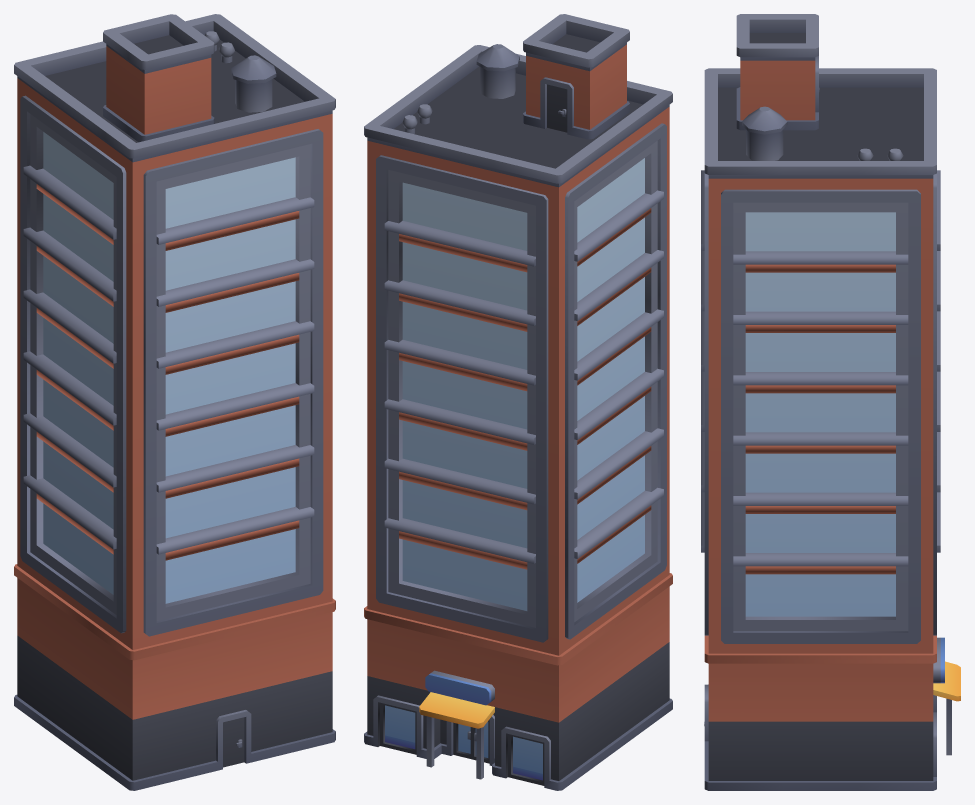
File: building-skyscraper-c-b.glb
The picture shows the model from 3 angles, left to right: view 1: azimuth 30°, elevation 25°; view 2: azimuth 150°, elevation 25°; view 3: azimuth 270°, elevation 25°; orthographic projection. The views are drawn at different scales.
Parts seen in each view (by area): view 1: building-skyscraper-c; view 2: building-skyscraper-c; view 3: building-skyscraper-c.
Boxes of the visible parts, box(x1,y1,x2,y2) form: building-skyscraper-c: box(14, 14, 335, 790); building-skyscraper-c: box(364, 14, 672, 790); building-skyscraper-c: box(701, 14, 960, 790).
Size of the model in its own units: 1.28 by 4.08 by 1.39.
Materials: 1 (1 with a texture image).
